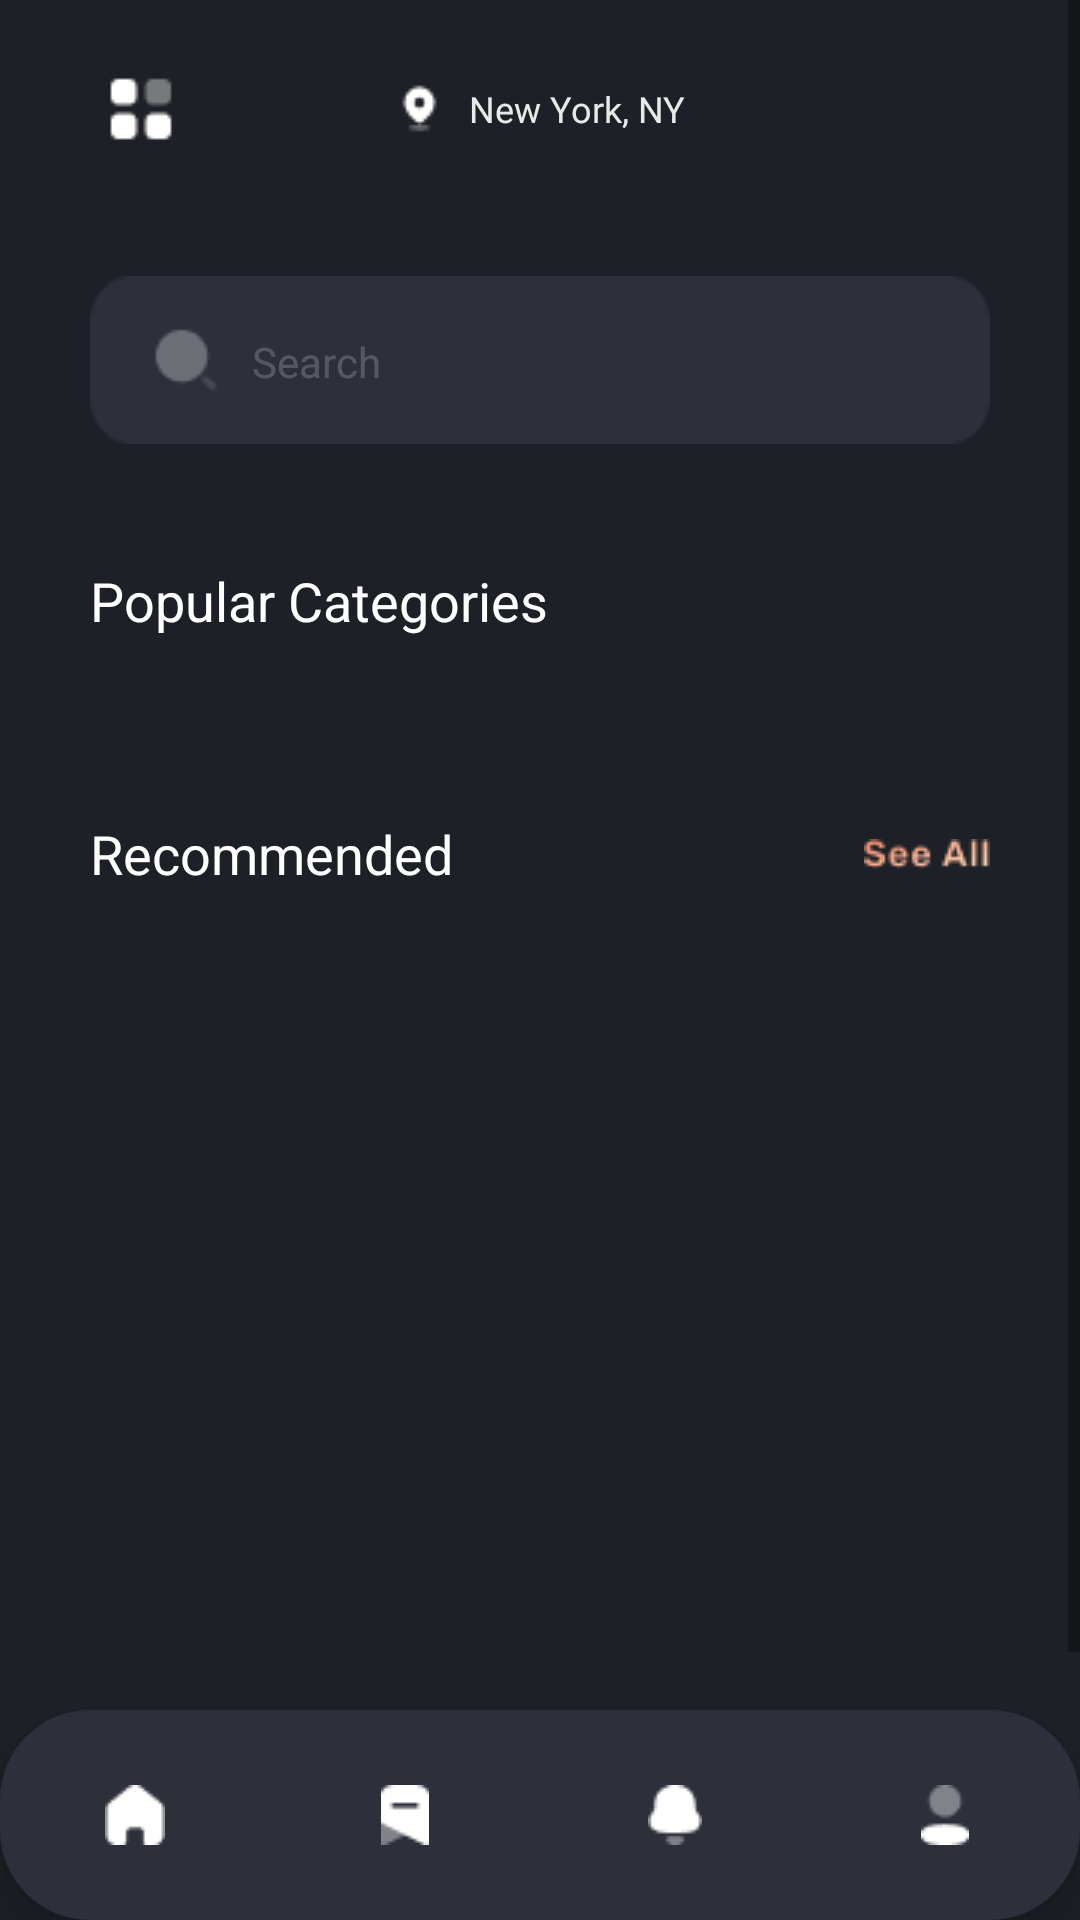

Named icons in this screenshot (1080x1920) and their centers, [x,y]:
bookmark: [405,1815]
category: [141,109]
home: [135,1815]
location: [419,108]
notification: [675,1815]
profile: [945,1815]
